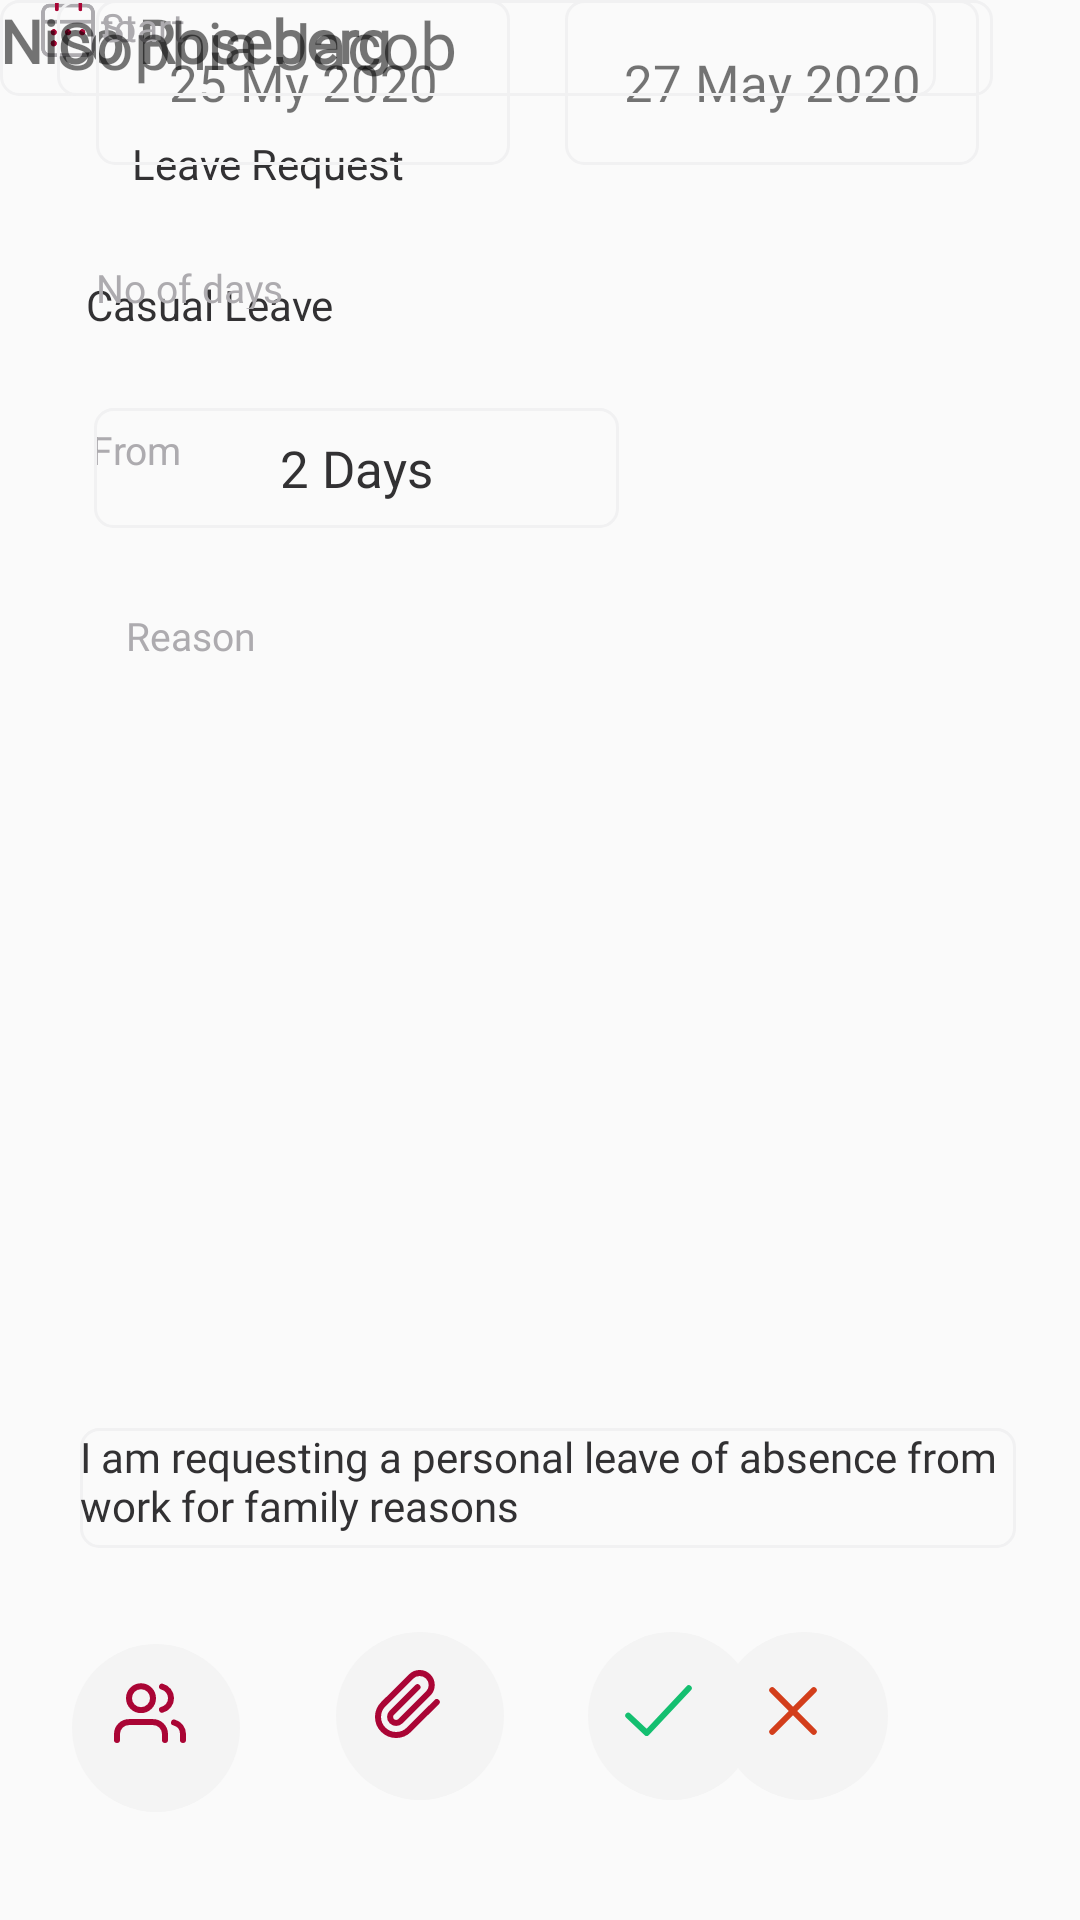

Icons on this 1080 x 1920 Android screen, each with its box as (x1, y1, x2, y2):
approve: (625, 1685, 692, 1736)
approvers: (114, 1683, 186, 1743)
decline: (769, 1687, 817, 1735)
documents: (375, 1670, 440, 1738)
